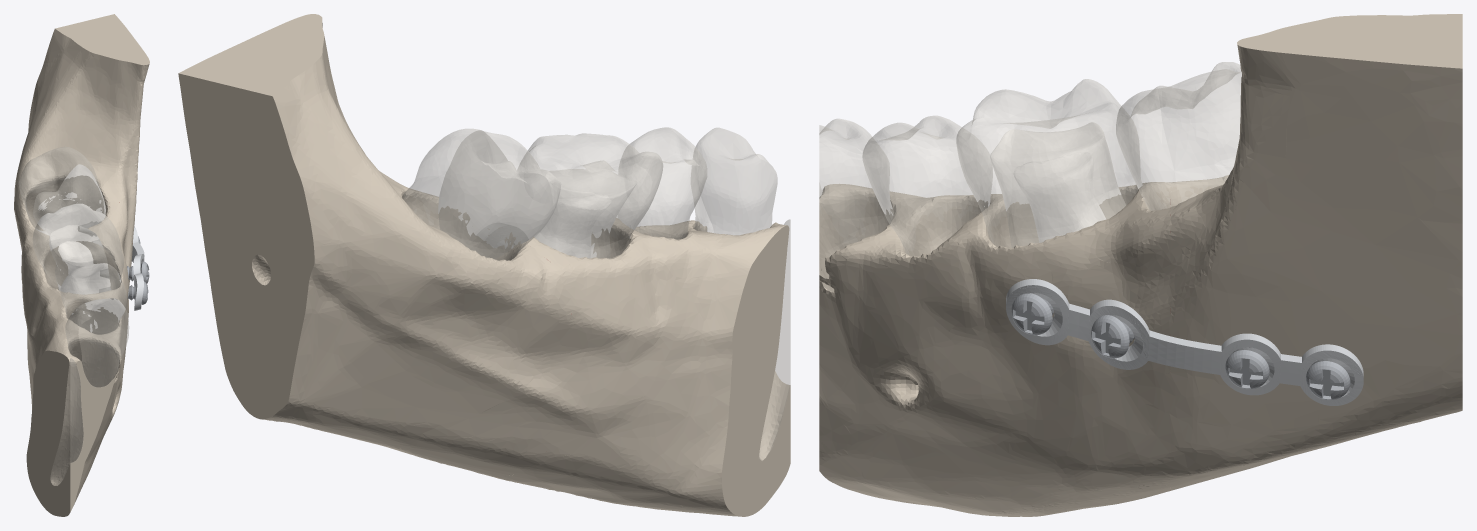
File: 7-see-through.glb
3 renders of one model, left to right at view 1: azimuth 30°, elevation 25°; view 2: azimuth 150°, elevation 25°; view 3: azimuth 270°, elevation 25°, orthographic. The views are drawn at different scales.
Parts seen in each view (by area): view 1: bone, teeth, screw, plate; view 2: bone, teeth, plate; view 3: bone, teeth, plate, screw.
Part boxes in pixels (x1,y1,x2,y2): bone: [14, 14, 149, 516]; teeth: [18, 146, 129, 486]; screw: [78, 221, 149, 304]; plate: [131, 226, 144, 310]; bone: [178, 14, 790, 516]; teeth: [402, 127, 790, 460]; plate: [476, 223, 528, 247]; bone: [819, 14, 1462, 516]; teeth: [819, 62, 1241, 291]; plate: [1006, 279, 1363, 405]; screw: [1011, 293, 1350, 400].
Bounding box in the file's own units: 0.032 × 0.0474 × 0.044.
